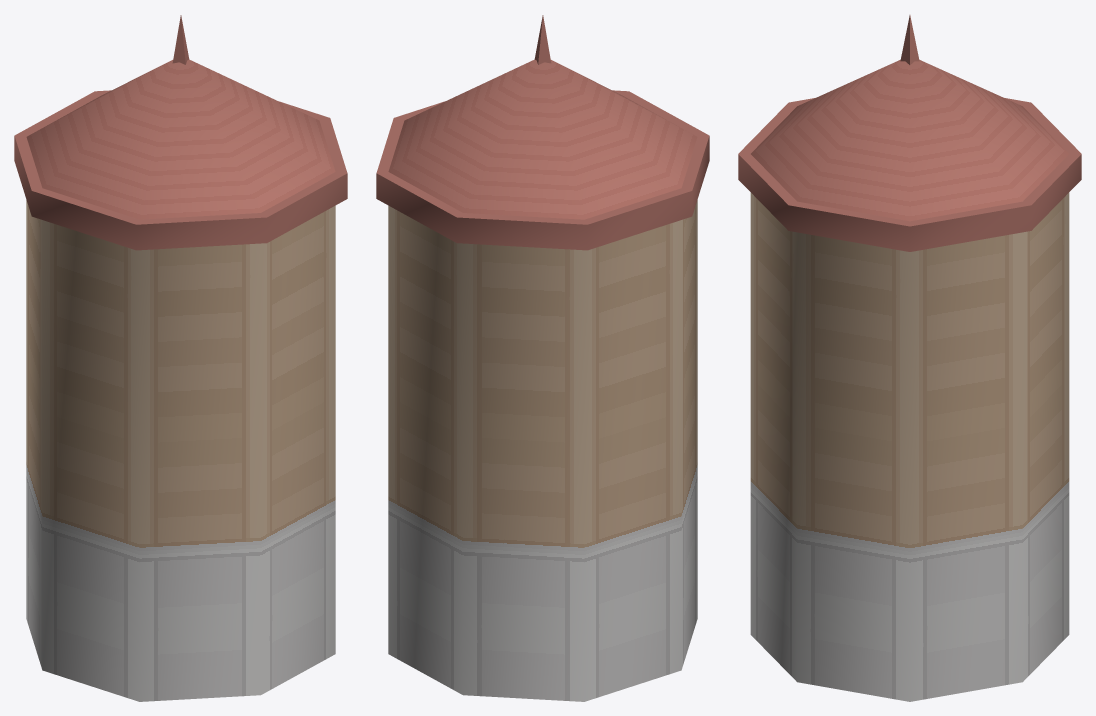
Rendered from 046e_Silo.glb.
The picture shows the model from 3 angles, left to right: view 1: azimuth 30°, elevation 25°; view 2: azimuth 150°, elevation 25°; view 3: azimuth 270°, elevation 25°; orthographic projection.
Parts seen in each view (by area): view 1: part_0; view 2: part_0; view 3: part_0.
Part boxes in pixels (box(x1,y1,x2,y2)): part_0: box(14, 15, 347, 701); part_0: box(376, 15, 709, 701); part_0: box(738, 15, 1081, 701).
Bounding box in the file's own units: 7.53 × 15 × 7.53.
1 material, 1 textured.
